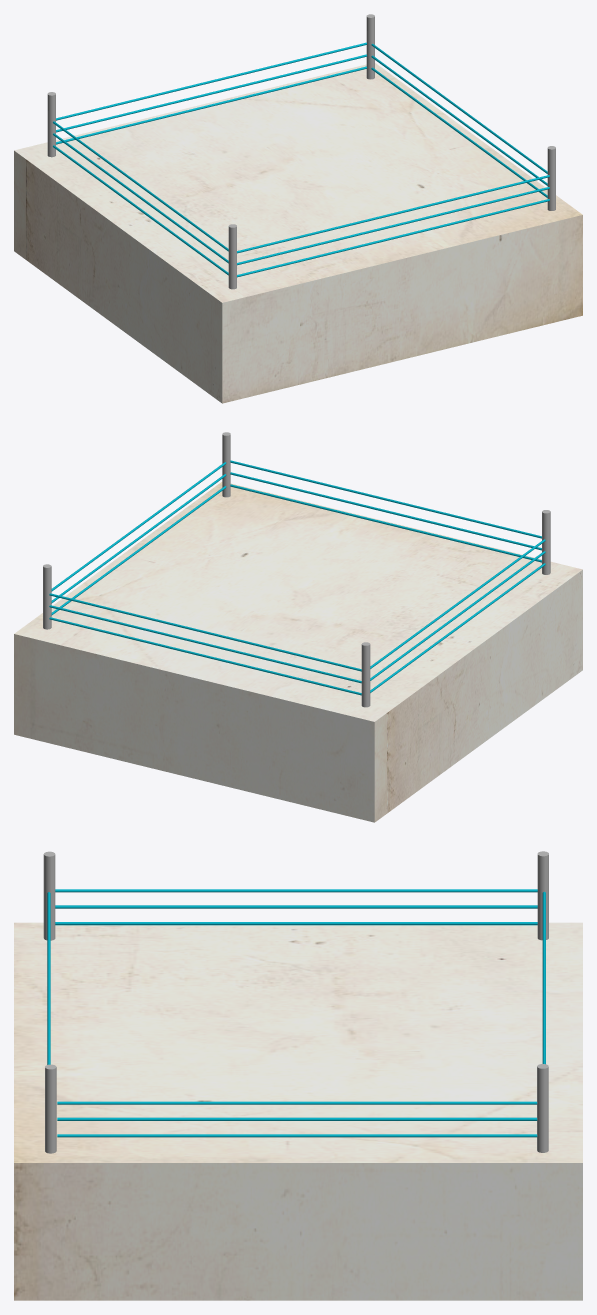
Rendered from Ring.fbx.
The picture shows the model from 3 angles, top to bottom: view 1: azimuth 30°, elevation 25°; view 2: azimuth 150°, elevation 25°; view 3: azimuth 270°, elevation 25°; orthographic projection. The views are drawn at different scales.
Visible parts, largest first — view 1: polySurface1, polySurface5; view 2: polySurface1, polySurface5; view 3: polySurface1, polySurface5.
Boxes of the visible parts, x1,y1,x2,y2 form: polySurface1: (14, 63, 582, 403); polySurface5: (47, 14, 555, 289); polySurface1: (14, 482, 582, 822); polySurface5: (43, 432, 550, 707); polySurface1: (14, 922, 582, 1300); polySurface5: (43, 851, 548, 1153).
Size of the model in its own units: 11.66 by 5.02 by 11.66.
